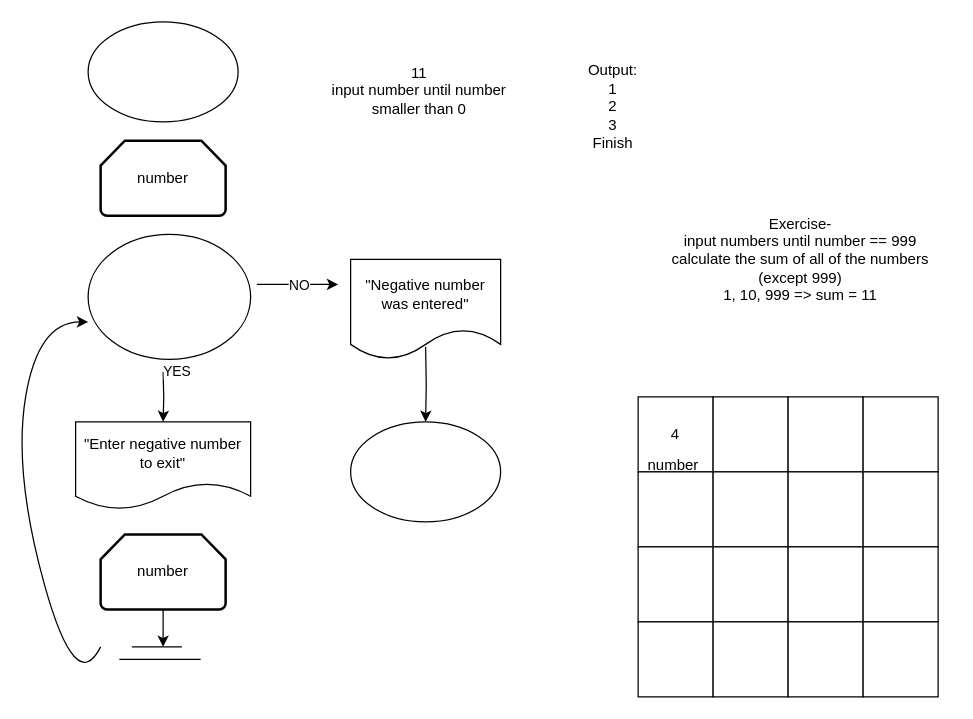
This 973x719 diagram has some shape labels left out. The shapes that lost their labels are listed below. From the top down, each one's centre as x and y in pixels, then its label:
At point 162,71: "START".
At point 169,296: "number >= 0 ? OR: not number < 0 ?".
At point 425,471: "END".
